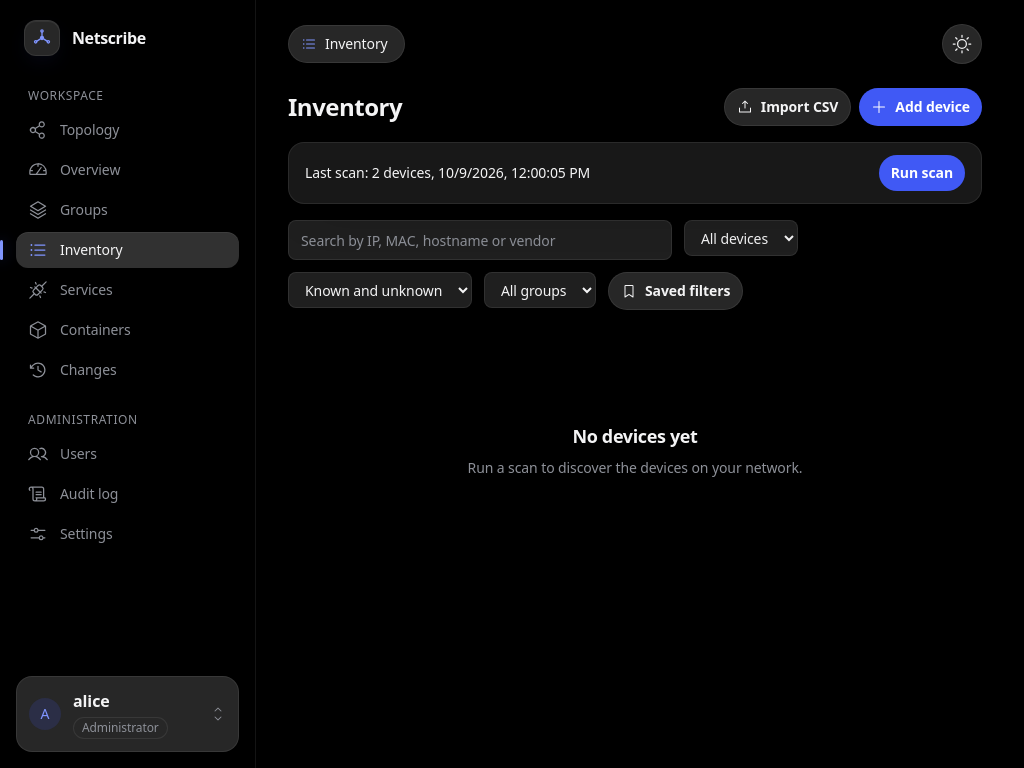
Test case: Inventory › says so when a scan is already running
The width and height of the screenshot is (1024, 768).
Click the button "Run scan". click: (922, 173)
box: [879, 155, 965, 191]
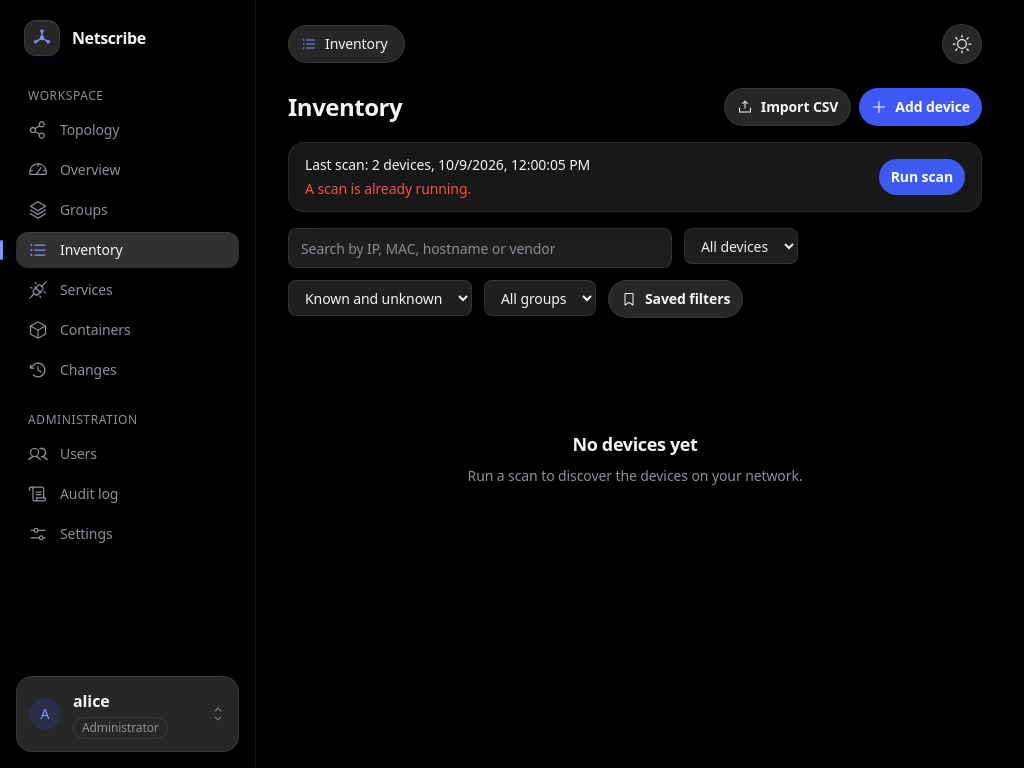
Expected: the message reads "A scan is already running.", [305, 179, 471, 198]
